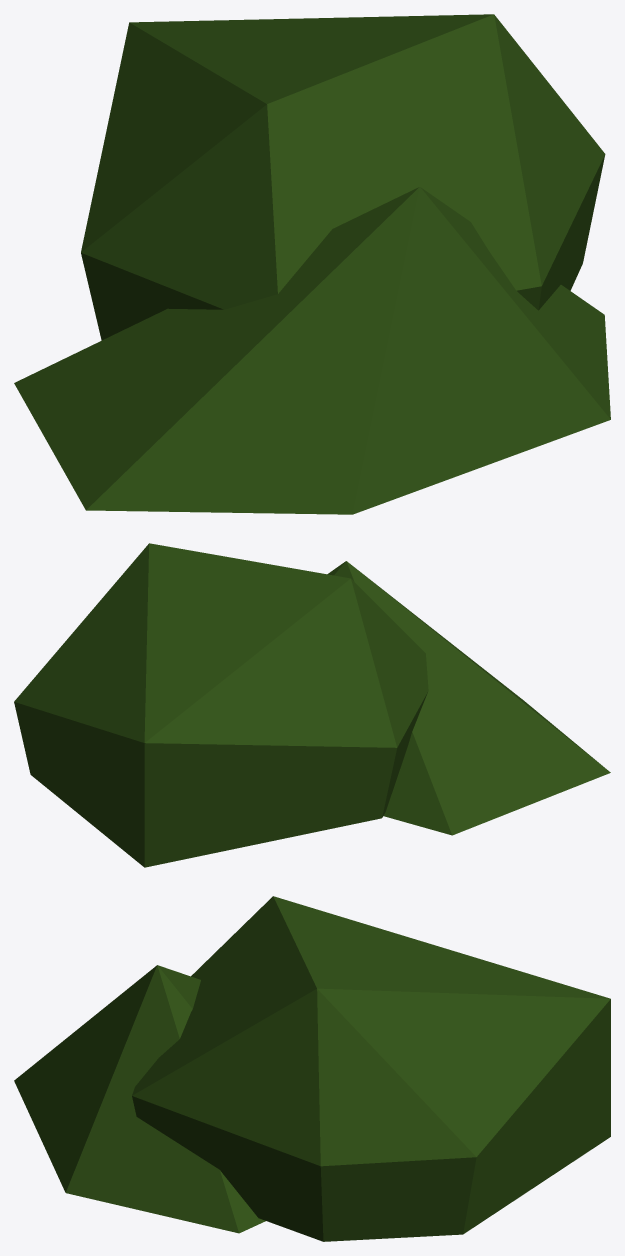
Rendered from Bush.002.fbx.
3 renders of one model, top to bottom at view 1: azimuth 30°, elevation 25°; view 2: azimuth 150°, elevation 25°; view 3: azimuth 270°, elevation 25°, orthographic. The views are drawn at different scales.
Parts seen in each view (by area): view 1: Bush.002; view 2: Bush.002; view 3: Bush.002.
Boxes of the visible parts, left/top/right/bottom form: Bush.002: left=14, top=14, right=610, bottom=514; Bush.002: left=14, top=543, right=610, bottom=867; Bush.002: left=14, top=896, right=610, bottom=1241.
Bounding box in the file's own units: 1.48 × 0.6183 × 1.51.
